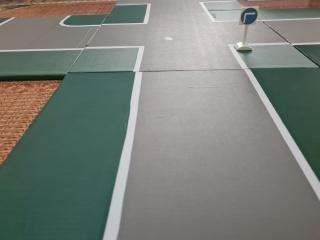right: (238, 2, 262, 30)
